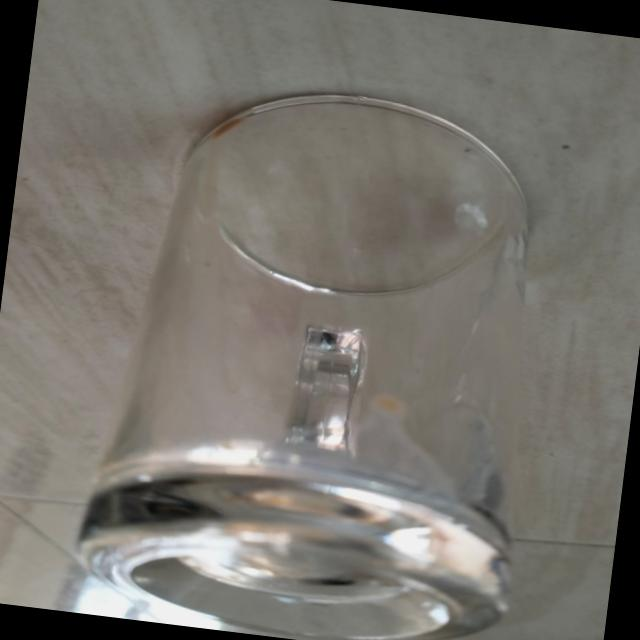glass-VX4N: (65, 63, 576, 640)
